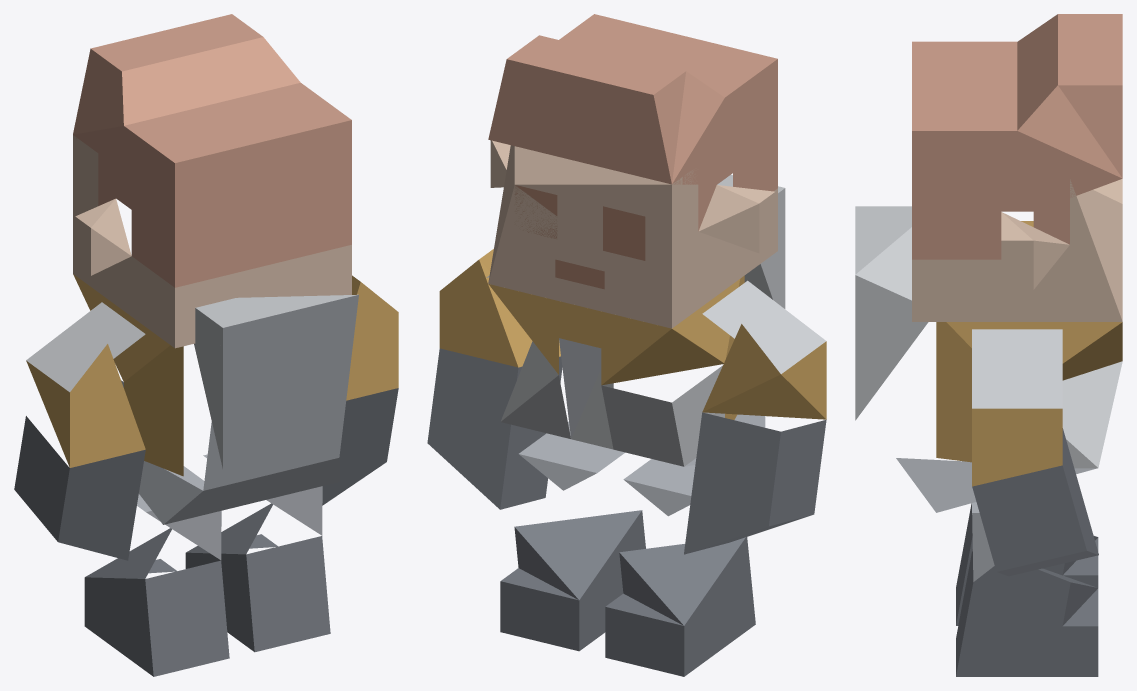
Rendered from astronautA.lod.glb.
3 renders of one model, left to right at view 1: azimuth 30°, elevation 25°; view 2: azimuth 150°, elevation 25°; view 3: azimuth 270°, elevation 25°, orthographic. The views are drawn at different scales.
Visible parts, largest first — view 1: head, armLeft, body; view 2: armLeft, head, body; view 3: armLeft, head, body.
Boxes of the visible parts, <box> form: head: <box>73,14,351,348</box>; armLeft: <box>14,274,398,676</box>; body: <box>137,295,358,559</box>; armLeft: <box>427,175,826,676</box>; head: <box>488,14,777,328</box>; body: <box>519,338,765,516</box>; armLeft: <box>855,206,1122,676</box>; head: <box>912,14,1122,321</box>; body: <box>896,458,1096,581</box>.
Size of the model in its own units: 0.4832 by 0.7932 by 0.33.
